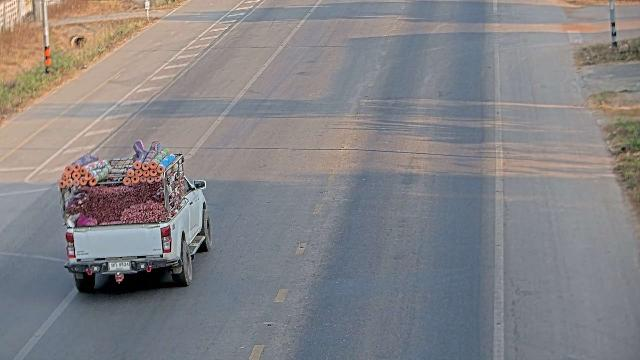pickup-truck: (57, 139, 212, 294)
